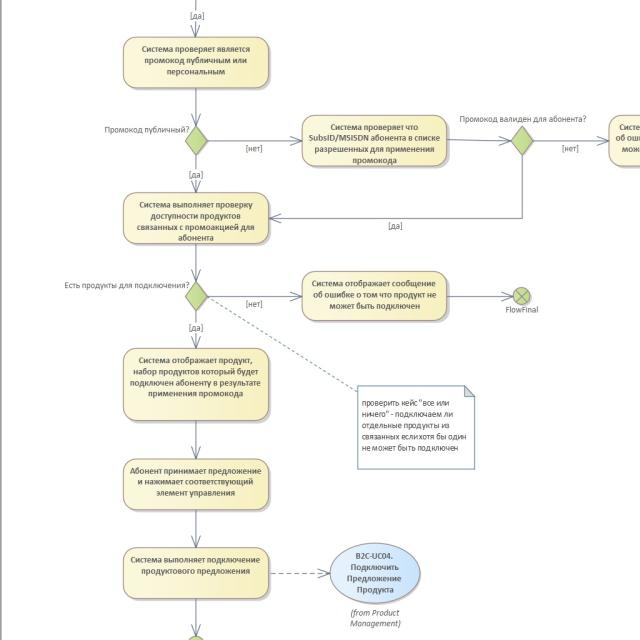arrow: (269, 154, 528, 224), (206, 135, 303, 147), (206, 291, 302, 302), (532, 134, 608, 146), (446, 291, 513, 303), (447, 135, 512, 147), (270, 568, 330, 580), (188, 154, 204, 192), (188, 307, 203, 347), (189, 244, 203, 282), (190, 420, 202, 460), (190, 599, 202, 637), (190, 90, 202, 127), (191, 508, 202, 548)
diamond: (185, 127, 207, 154), (512, 127, 533, 154), (186, 283, 207, 310)
rectangle: (124, 349, 268, 421), (123, 37, 270, 90), (124, 192, 268, 244), (302, 115, 447, 166), (124, 548, 269, 599), (124, 459, 268, 510), (302, 272, 446, 321)
text_region: (101, 122, 190, 135), (185, 320, 207, 333), (244, 298, 263, 312), (242, 142, 264, 154), (560, 144, 582, 154), (186, 169, 205, 180), (188, 10, 205, 22), (388, 221, 404, 232)
